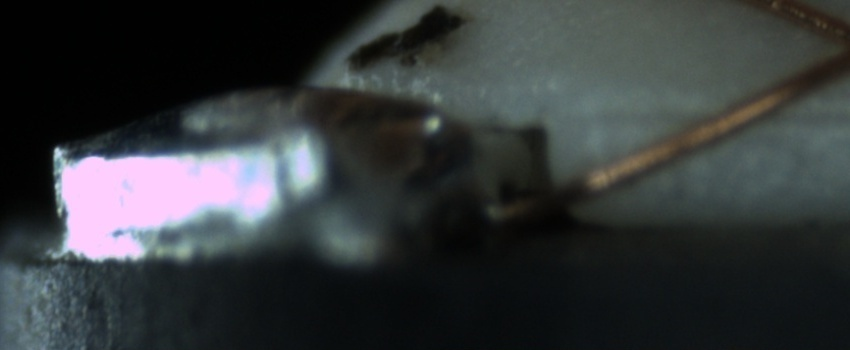CL: (805, 9, 850, 82)
DL: (602, 79, 849, 150)
